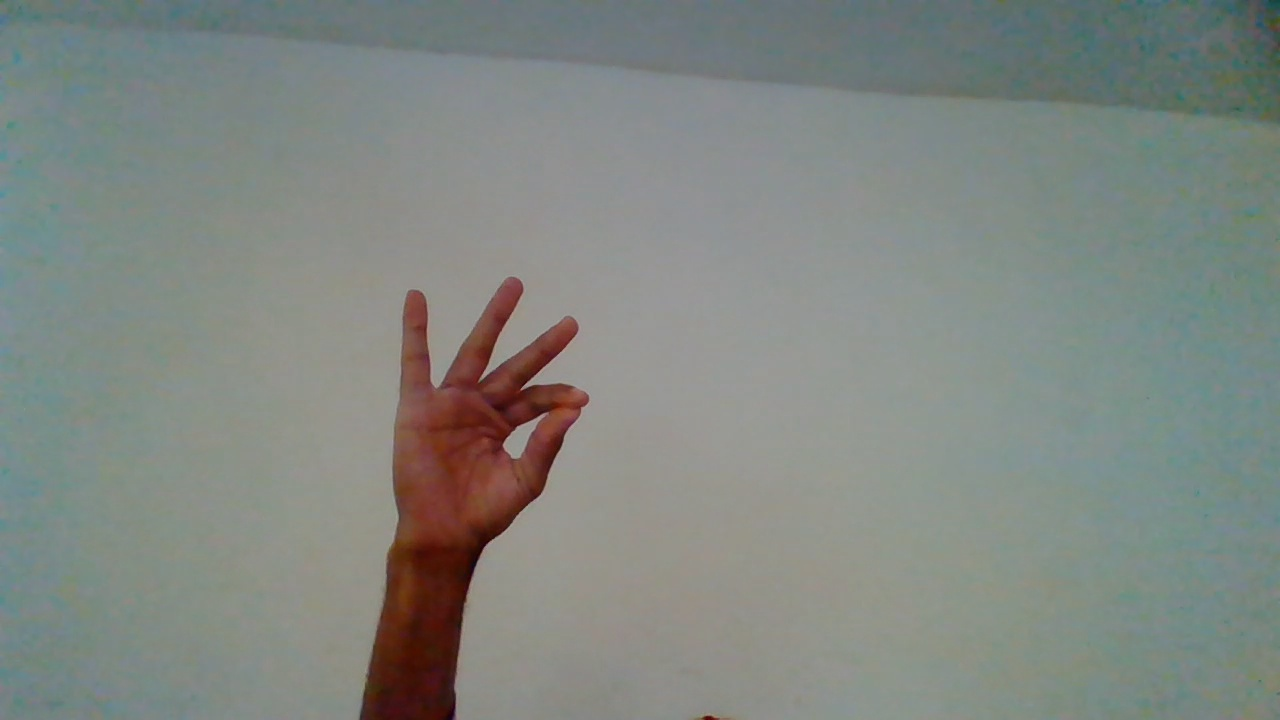le: (392, 277, 599, 663)
